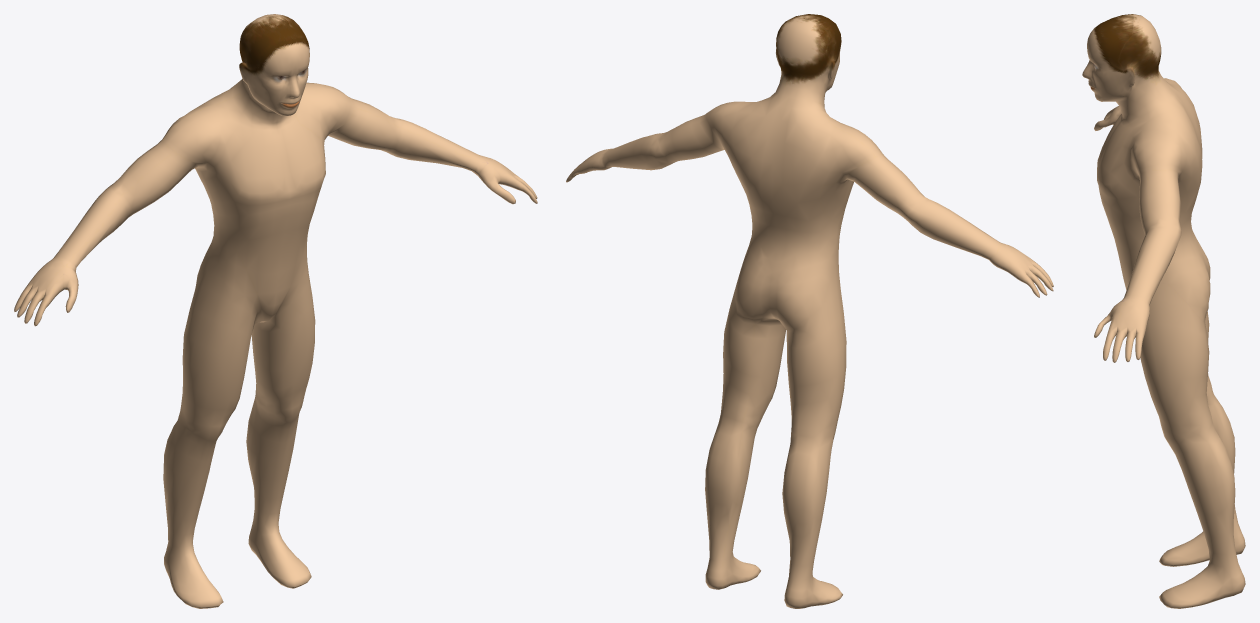
The model's file is garcin.fbx.
The picture shows the model from 3 angles, left to right: view 1: azimuth 30°, elevation 25°; view 2: azimuth 150°, elevation 25°; view 3: azimuth 270°, elevation 25°; orthographic projection. The views are drawn at different scales.
Parts seen in each view (by area): view 1: node_id10; view 2: node_id10; view 3: node_id10.
Part boxes in pixels (left/top/right/bottom): node_id10: left=14, top=14, right=537, bottom=608; node_id10: left=566, top=14, right=1053, bottom=608; node_id10: left=1082, top=14, right=1245, bottom=608.
Size of the model in its own units: 1024 by 1129 by 296.
Materials: 1 (1 with a texture image).
